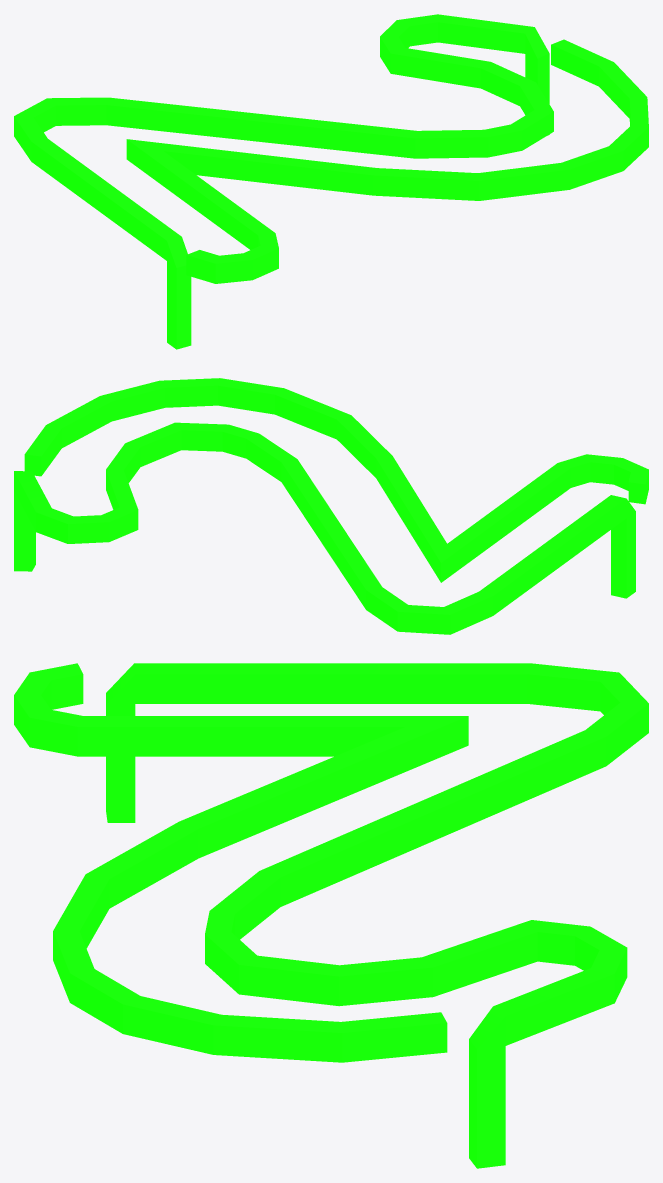
The model's file is Number_3D_04_2.FBX.
The picture shows the model from 3 angles, top to bottom: view 1: azimuth 30°, elevation 25°; view 2: azimuth 150°, elevation 25°; view 3: azimuth 270°, elevation 25°; orthographic projection. The views are drawn at different scales.
Parts seen in each view (by area): view 1: Number_3D_04_2; view 2: Number_3D_04_2; view 3: Number_3D_04_2.
Boxes of the visible parts, box(x1,y1,x2,y2) form: Number_3D_04_2: box(14, 14, 648, 349); Number_3D_04_2: box(14, 378, 648, 634); Number_3D_04_2: box(14, 663, 648, 1168).
Size of the model in its own units: 67.32 by 12.63 by 48.84.
